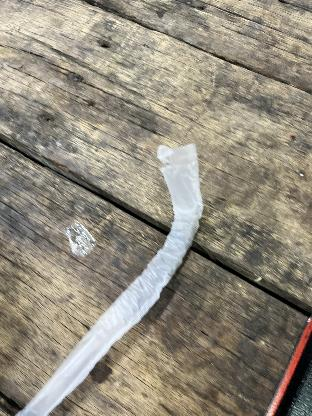Others: (10, 136, 206, 412)
